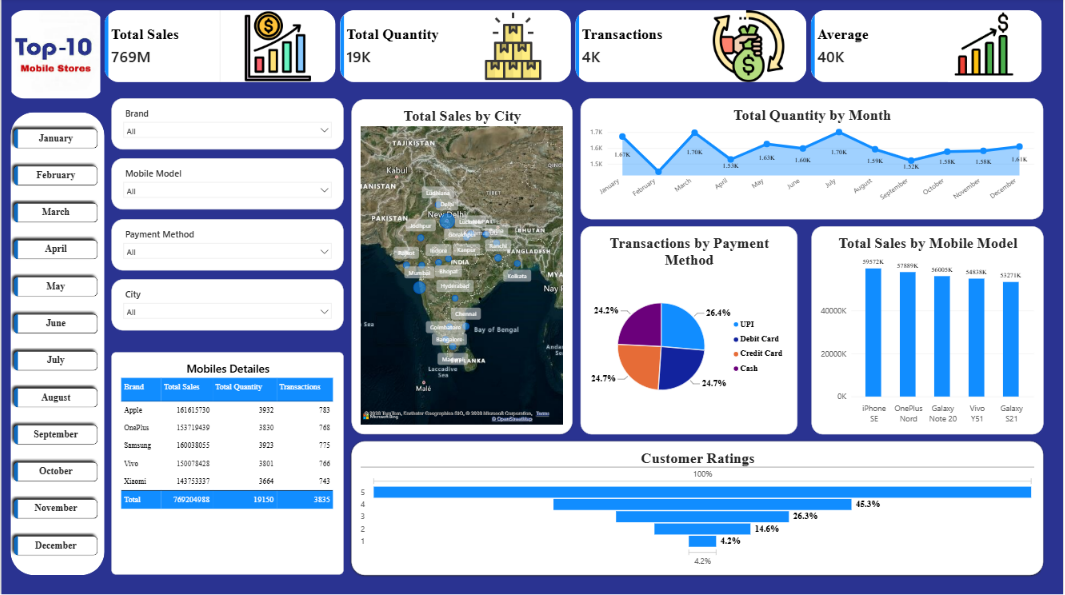

What the dashboard file says about the page in this screenshot:
{"tool":"powerbi","page":{"name":"Page 1","canvas":[1920,1080],"ordinal":0},"visuals":[{"type":"image","box":[10.8,21.6,175.3,160.1],"z":0},{"type":"shape","box":[16.3,206.3,170.1,837.9],"z":1000},{"type":"advancedSlicerVisual","fields":{"Values":["Sale_Data.Date.Variation.Date Hierarchy.Month"]},"box":[10.8,225.1,175.3,798.6],"z":2000},{"type":"cardVisual","fields":{"Data":["Sale_Data.Total Sales","Sale_Data.Total Quantity","Sale_Data.Transactions","Sale_Data.Average"]},"box":[186.4,21.7,1699.3,130.3],"z":3000},{"type":"map","title":"Total Sales by City","fields":{"Category":["Sale_Data.City"],"Size":["Sale_Data.Total Sales"]},"box":[633.4,182.8,399.9,606.2],"z":4000},{"type":"stackedAreaChart","fields":{"Category":["Sale_Data.Date.Variation.Date Hierarchy.Month","Sale_Data.Date.Variation.Date Hierarchy.Day"],"Y":["Sale_Data.Total Quantity"]},"box":[1047.8,181,837.9,219],"z":5000},{"type":"clusteredColumnChart","fields":{"Category":["Sale_Data.Mobile Model"],"Y":["Sale_Data.Total Sales"]},"box":[1465.8,412.6,419.8,376.4],"z":6000},{"type":"pieChart","fields":{"Category":["Sale_Data.Payment Method"],"Y":["Sale_Data.Transactions"]},"box":[1047.8,412.6,392.7,376.4],"z":7000},{"type":"funnel","title":" Customer Ratings","fields":{"Category":["Sale_Data.Customer Ratings"],"Y":["Sum(Sale_Data.Customer Ratings)"]},"box":[633.4,801.7,1252.3,242.5],"z":8000},{"type":"tableEx","title":"Mobiles Detailes","fields":{"Values":["Sale_Data.Brand","Sale_Data.Total Sales","Sale_Data.Total Quantity","Sale_Data.Transactions"]},"box":[199.1,640.6,419.8,402.5],"z":9000},{"type":"slicer","fields":{"Values":["Sale_Data.Brand"]},"box":[199.1,181.8,419.8,93.1],"z":10000},{"type":"slicer","fields":{"Values":["Sale_Data.Mobile Model"]},"box":[199.1,290,419.8,93.1],"z":11000},{"type":"slicer","fields":{"Values":["Sale_Data.Payment Method"]},"box":[199.1,400.4,419.8,93.1],"z":12000},{"type":"slicer","fields":{"Values":["Sale_Data.City"]},"box":[199.1,508.6,419.8,93.1],"z":13000}]}

Visuals, with their boxes in screenshot pixels (x1, y1, x2, y2), scaled from the page's 1920x1080 canvas onto the 1065x595 screenshot:
image: pyautogui.locateOnScreen(6, 12, 103, 100)
shape: pyautogui.locateOnScreen(9, 114, 103, 575)
advancedSlicerVisual - Sale_Data.Date.Variation.Date Hierarchy.Month: pyautogui.locateOnScreen(6, 124, 103, 564)
cardVisual - Sale_Data.Total Sales x Sale_Data.Total Quantity: pyautogui.locateOnScreen(103, 12, 1046, 84)
"Total Sales by City" map: pyautogui.locateOnScreen(351, 101, 573, 435)
stackedAreaChart - Sale_Data.Date.Variation.Date Hierarchy.Month x Sale_Data.Date.Variation.Date Hierarchy.Day: pyautogui.locateOnScreen(581, 100, 1046, 220)
clusteredColumnChart - Sale_Data.Mobile Model x Sale_Data.Total Sales: pyautogui.locateOnScreen(813, 227, 1046, 435)
pieChart - Sale_Data.Payment Method x Sale_Data.Transactions: pyautogui.locateOnScreen(581, 227, 799, 435)
" Customer Ratings" funnel: pyautogui.locateOnScreen(351, 442, 1046, 575)
"Mobiles Detailes" tableEx: pyautogui.locateOnScreen(110, 353, 343, 575)
slicer - Sale_Data.Brand: pyautogui.locateOnScreen(110, 100, 343, 151)
slicer - Sale_Data.Mobile Model: pyautogui.locateOnScreen(110, 160, 343, 211)
slicer - Sale_Data.Payment Method: pyautogui.locateOnScreen(110, 221, 343, 272)
slicer - Sale_Data.City: pyautogui.locateOnScreen(110, 280, 343, 331)
